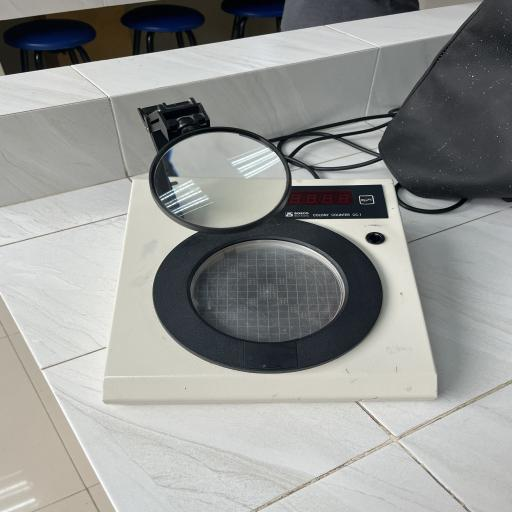Contador_Colonias_CC1: (75, 93, 452, 415)
